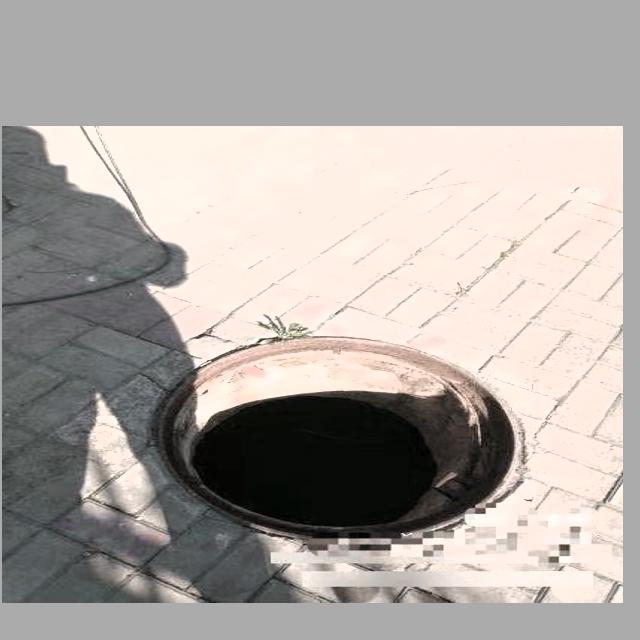lose: (152, 329, 534, 547)
